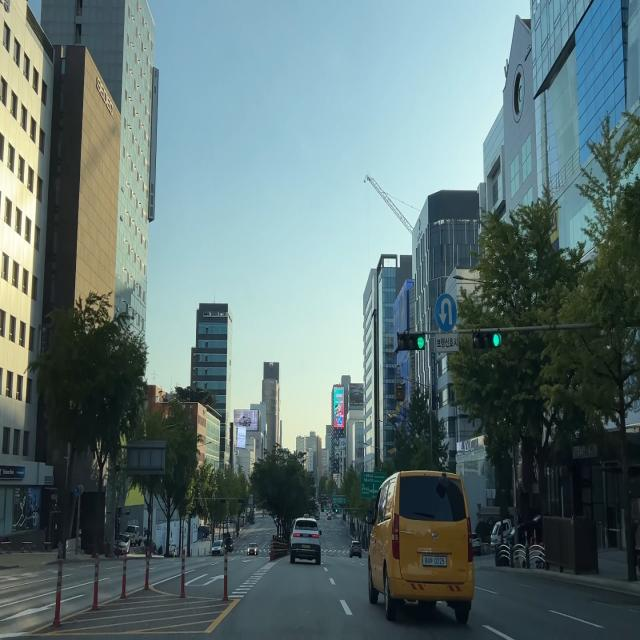Green Light: (492, 332, 502, 348), (416, 334, 425, 350)
